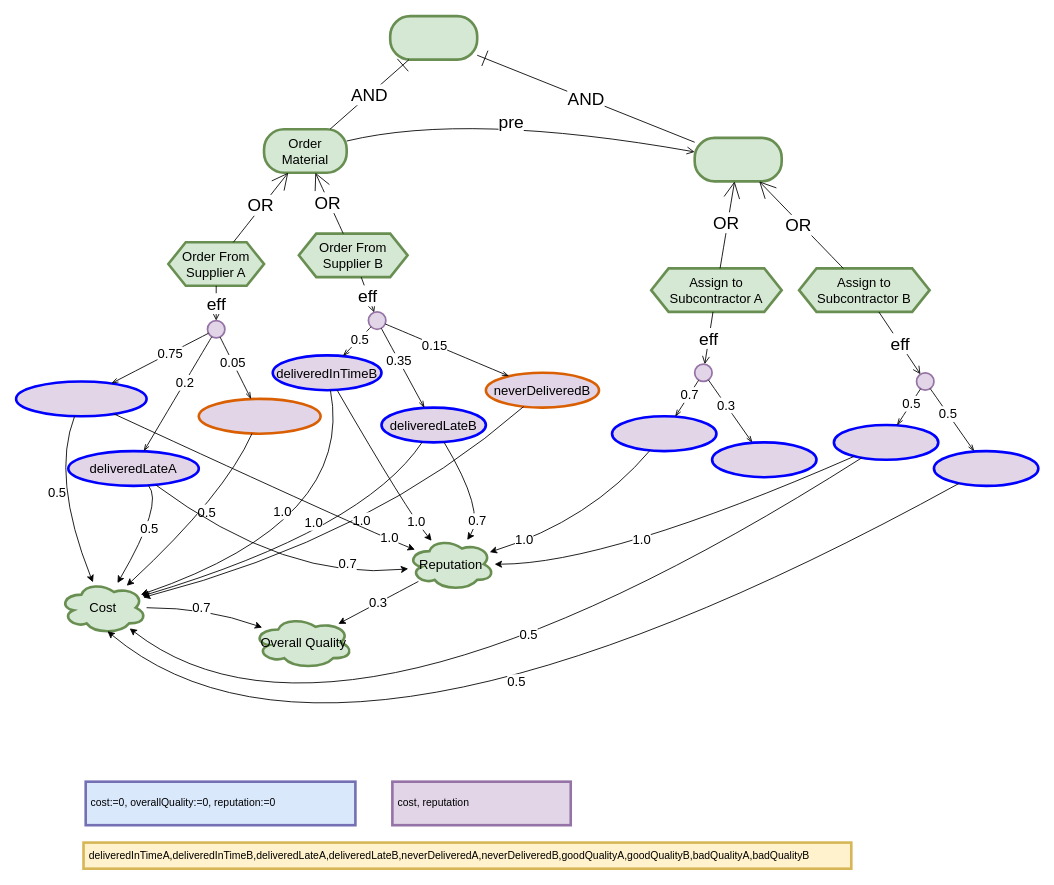
This 1054x885 diagram has some shape labels left out. The centre of each missing label's shape, as x and y in pixels:
"Assign Work" belongs at point (738, 159).
"badQualityA" belongs at point (763, 459).
"badQualityB" belongs at point (985, 468).
"Build Roof" belongs at point (433, 37).
"deliveredInTimeA" belongs at point (80, 398).
"goodQualityA" belongs at point (663, 433).
"goodQualityB" belongs at point (885, 442).
"neverDeliveredA" belongs at point (259, 416).
